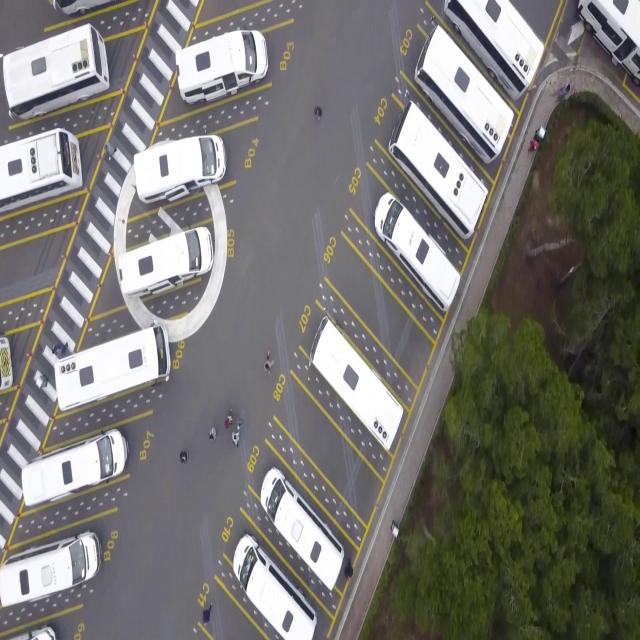people: (264, 350, 275, 374), (103, 142, 117, 160), (52, 343, 66, 357), (345, 558, 353, 580), (203, 604, 211, 624), (232, 431, 241, 448), (179, 450, 189, 463), (314, 106, 322, 120), (208, 428, 216, 440), (225, 415, 232, 427), (237, 420, 243, 430)
